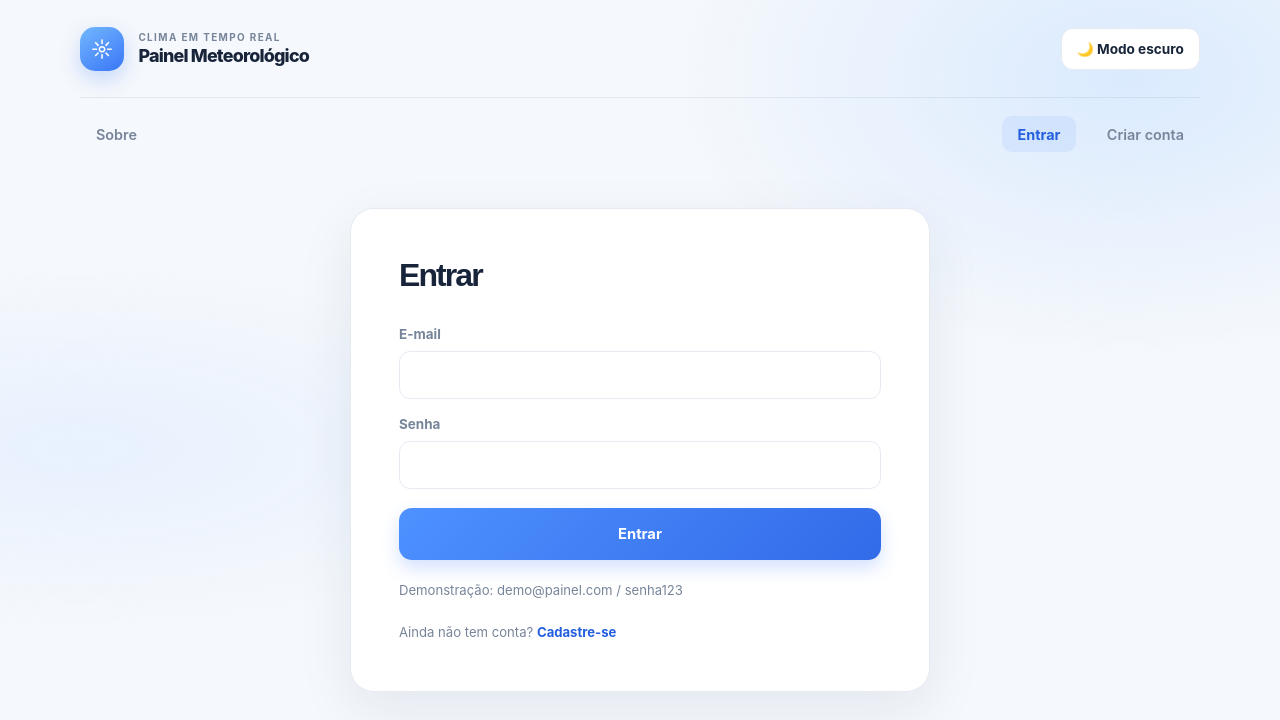
Test: Fluxo de autenticação (integração) › mostra o erro do servidor e não salva token com credenciais erradas
This screenshot has width=1280, height=720.
Type "demo@painel.com" into the field labelled "E-mail" at (640, 375), box left=399, top=351, right=881, bottom=399
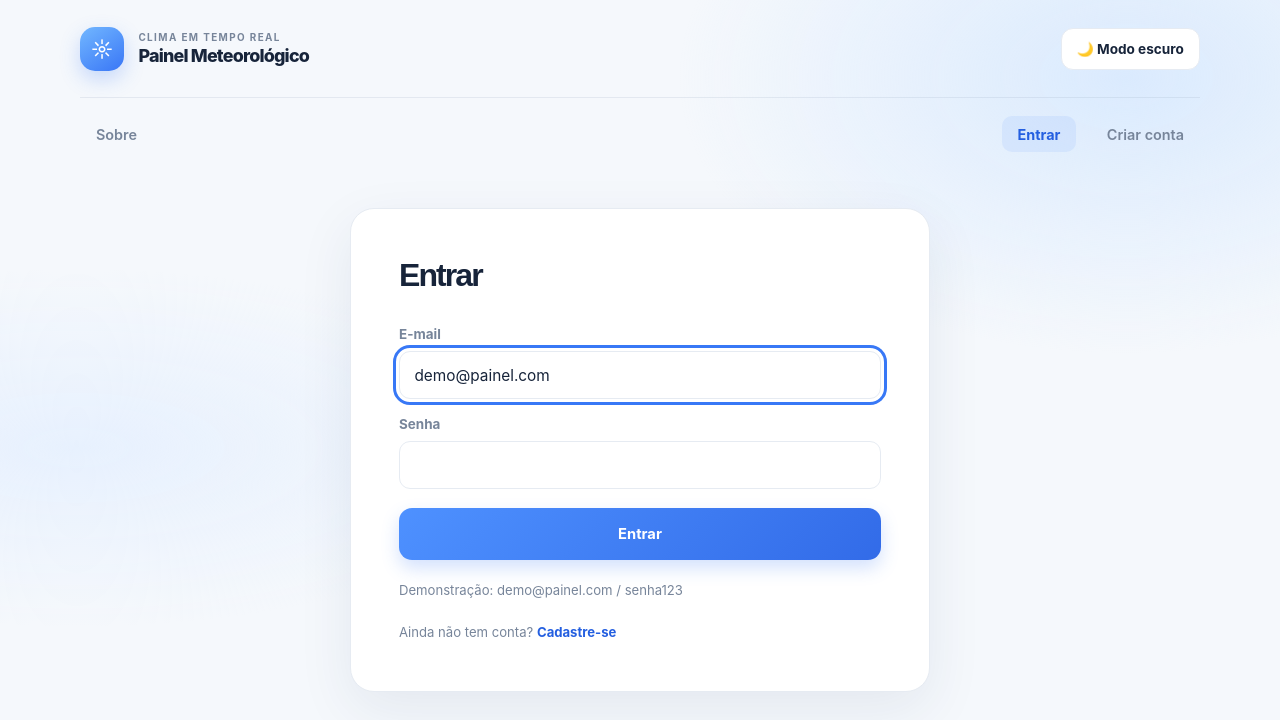
Type "errada" into the password field labelled "Senha" at (640, 465), box left=399, top=441, right=881, bottom=489
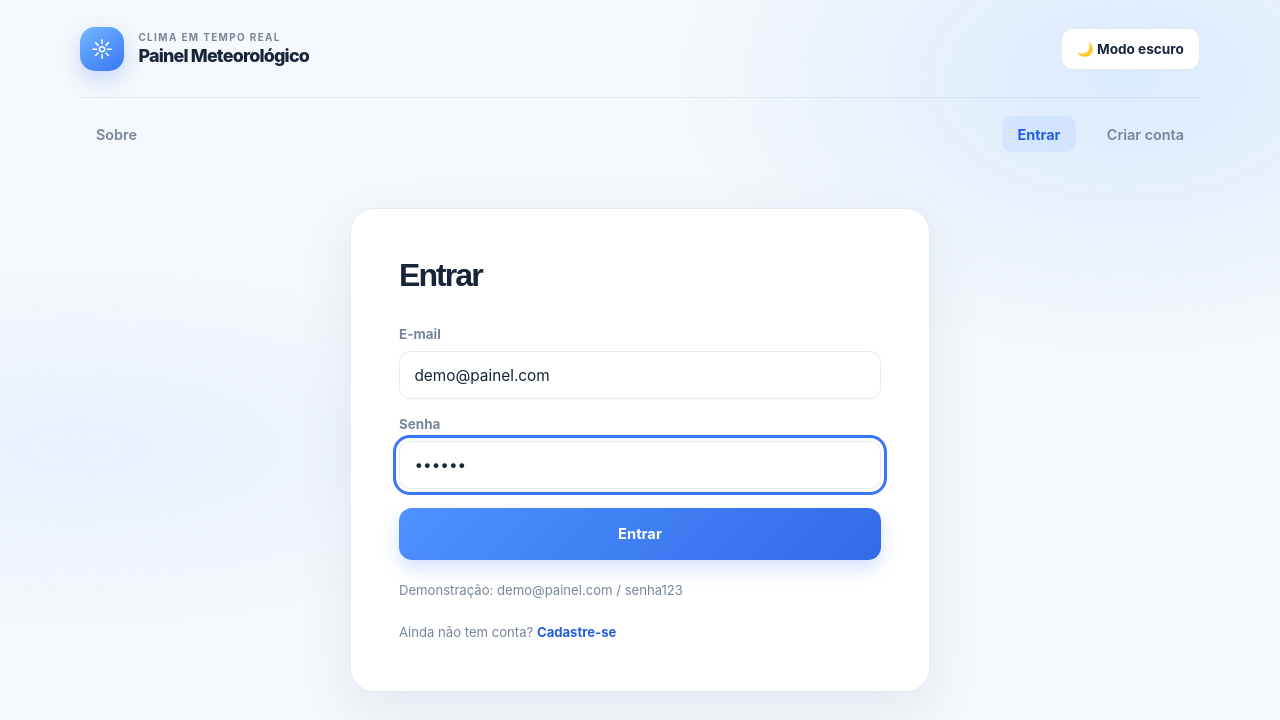
Click the button "Entrar" at (640, 534), box left=399, top=508, right=881, bottom=560
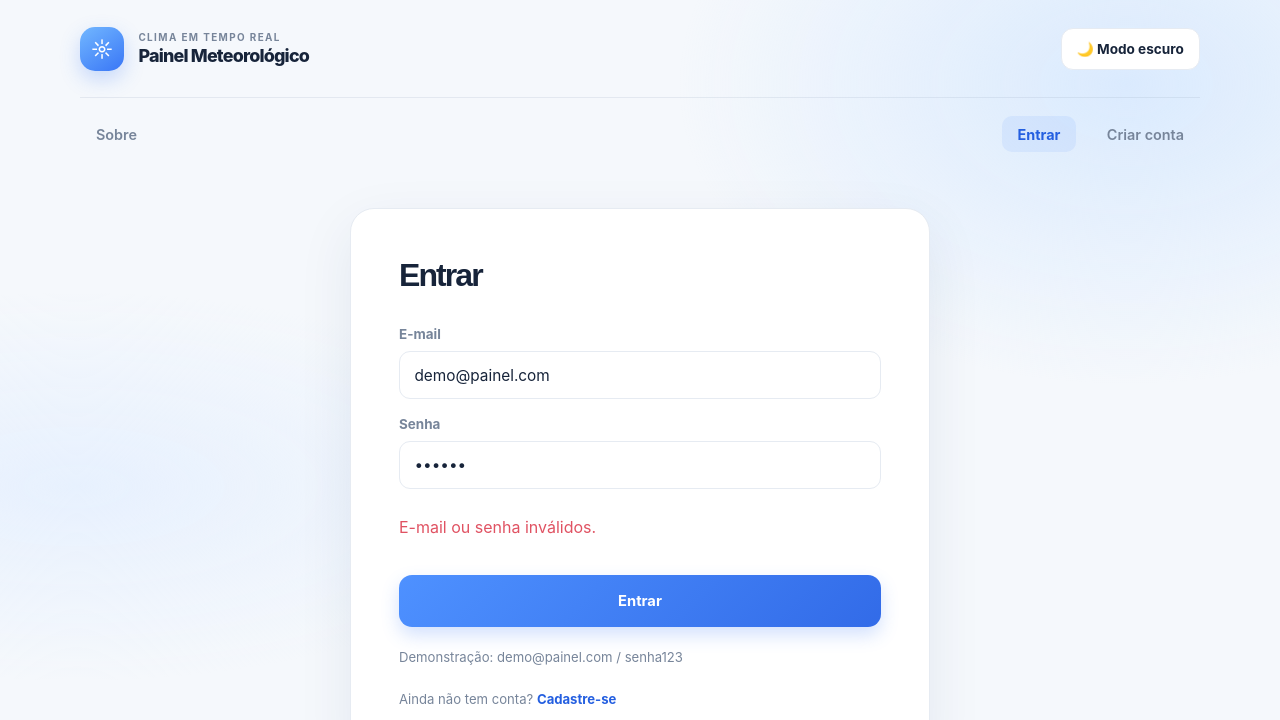
Expected: the button "Entrar" is enabled, left=399, top=575, right=881, bottom=627
Now the message reads "E-mail ou senha inválidos.", box left=399, top=517, right=596, bottom=537
